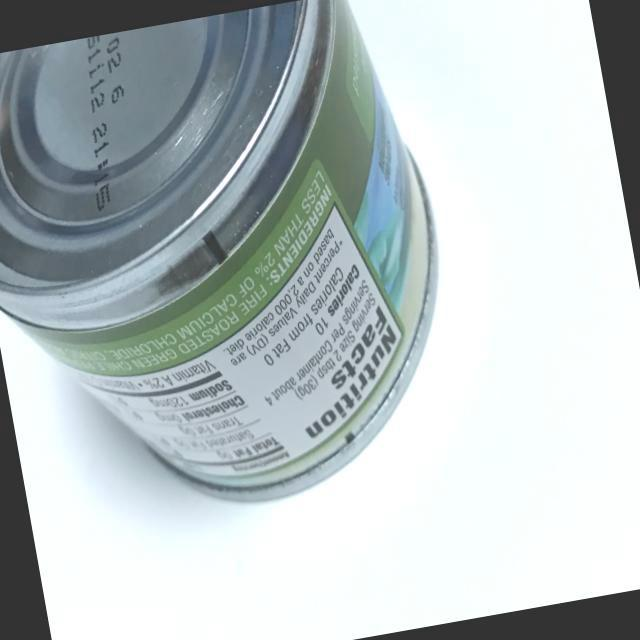metal: (0, 0, 512, 560)
